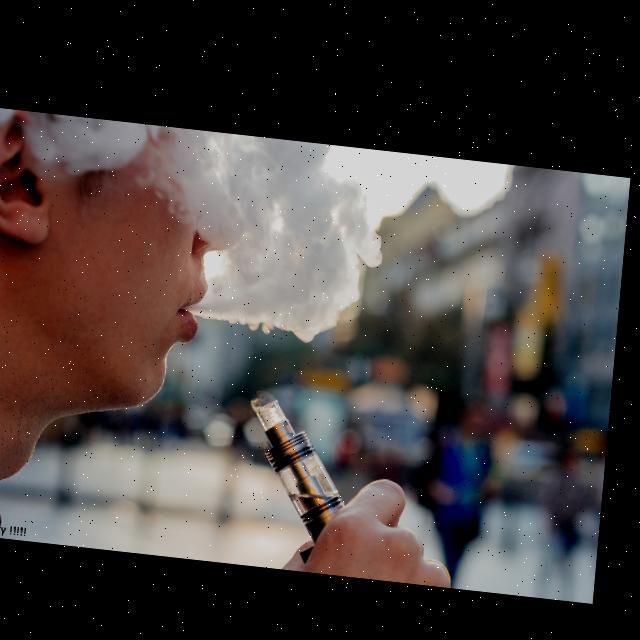vape: (254, 390, 361, 543)
